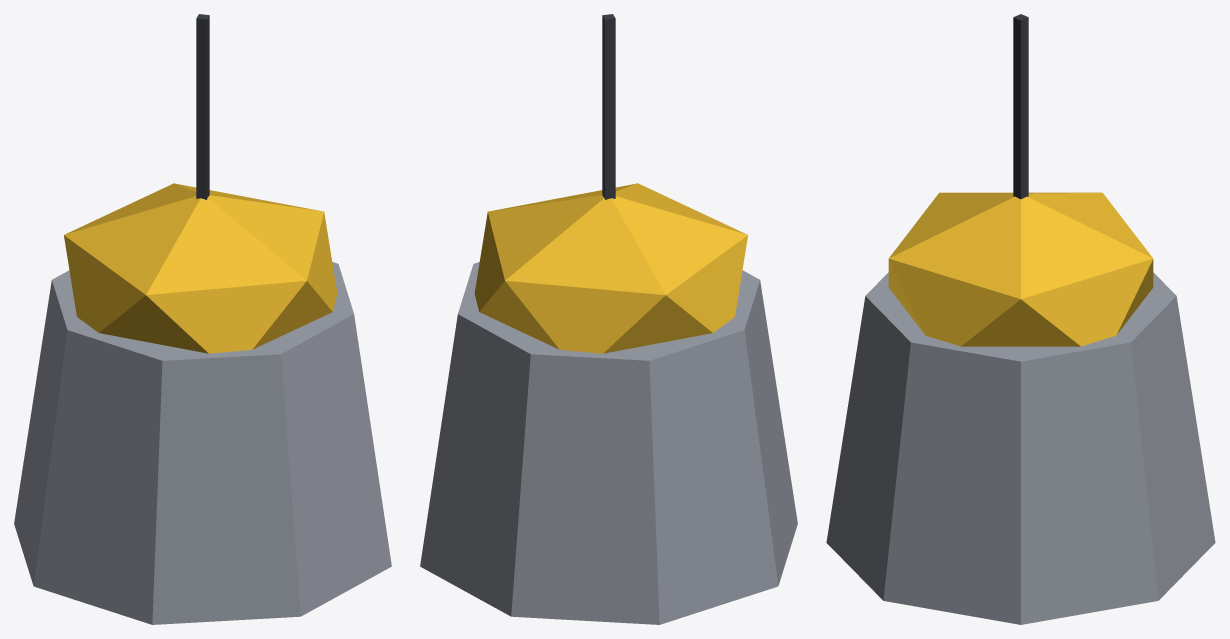
The model's file is ore_bucket.glb.
3 renders of one model, left to right at view 1: azimuth 30°, elevation 25°; view 2: azimuth 150°, elevation 25°; view 3: azimuth 270°, elevation 25°, orthographic.
Visible parts, largest first — view 1: ore_bucket; view 2: ore_bucket; view 3: ore_bucket.
Boxes of the visible parts, bbox=[...] form: ore_bucket: bbox=[14, 14, 391, 624]; ore_bucket: bbox=[420, 14, 797, 624]; ore_bucket: bbox=[826, 14, 1215, 624].
Bounding box in the file's own units: 0.5 × 0.745 × 0.5.
